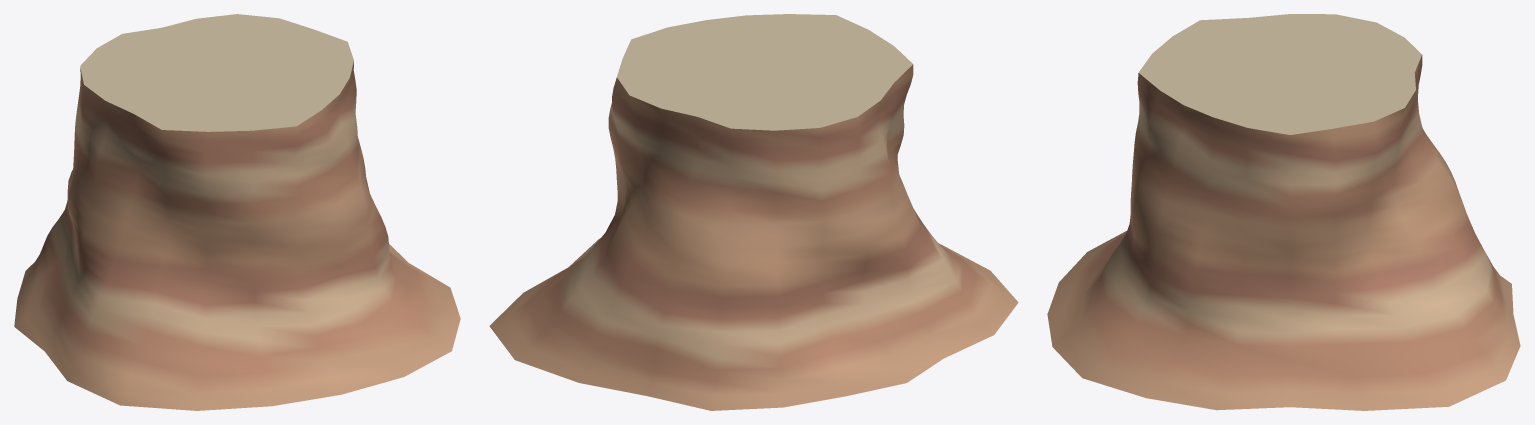
Rendered from mesa.gltf.
The picture shows the model from 3 angles, left to right: view 1: azimuth 30°, elevation 25°; view 2: azimuth 150°, elevation 25°; view 3: azimuth 270°, elevation 25°; orthographic projection. The views are drawn at different scales.
Parts seen in each view (by area): view 1: mesa; view 2: mesa; view 3: mesa.
Boxes of the visible parts, x1,y1,x2,y2 form: mesa: (14, 14, 460, 410); mesa: (489, 14, 1018, 410); mesa: (1047, 14, 1520, 410).
Size of the model in its own units: 15.36 by 9 by 15.97.
